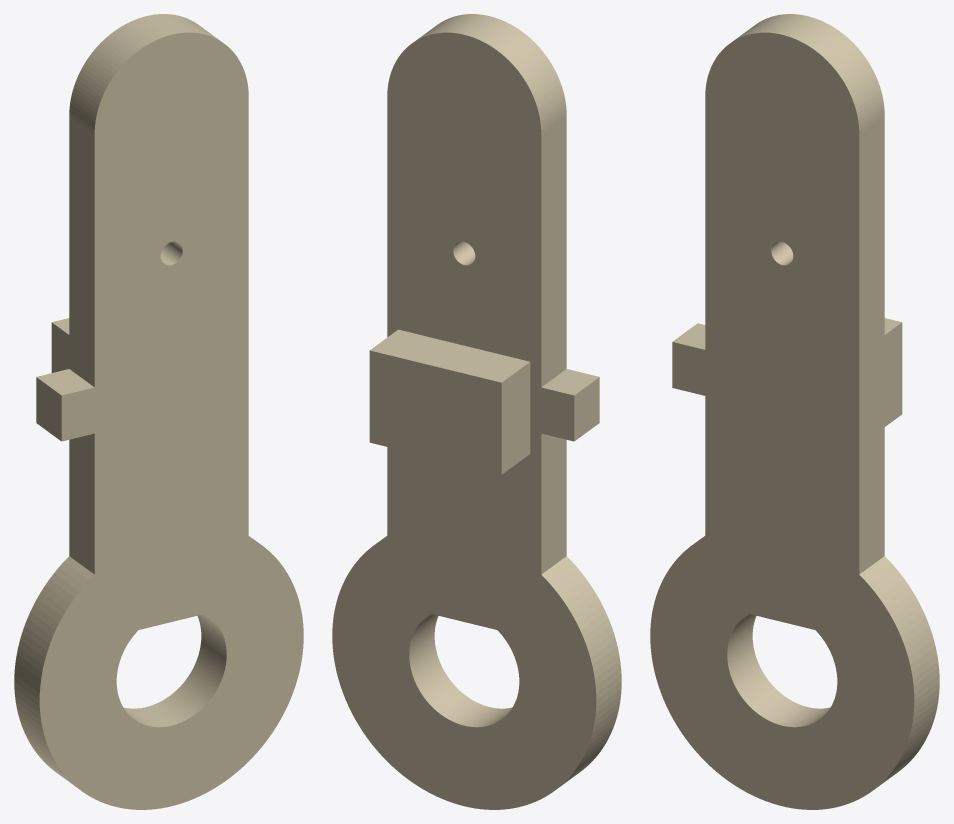
File: throttle-lever-estimated.glb
3 views of the same model, side by side, from view 1: azimuth 30°, elevation 25°; view 2: azimuth 150°, elevation 25°; view 3: azimuth 330°, elevation 25° (orthographic).
Visible parts, largest first — view 1: world; view 2: world; view 3: world.
Boxes of the visible parts, x1,y1,x2,y2 form: world: (14,14,303,809); world: (332,14,621,809); world: (650,14,939,809).
Bounding box in the file's own units: 0.012 × 0.0335 × 0.00425.
